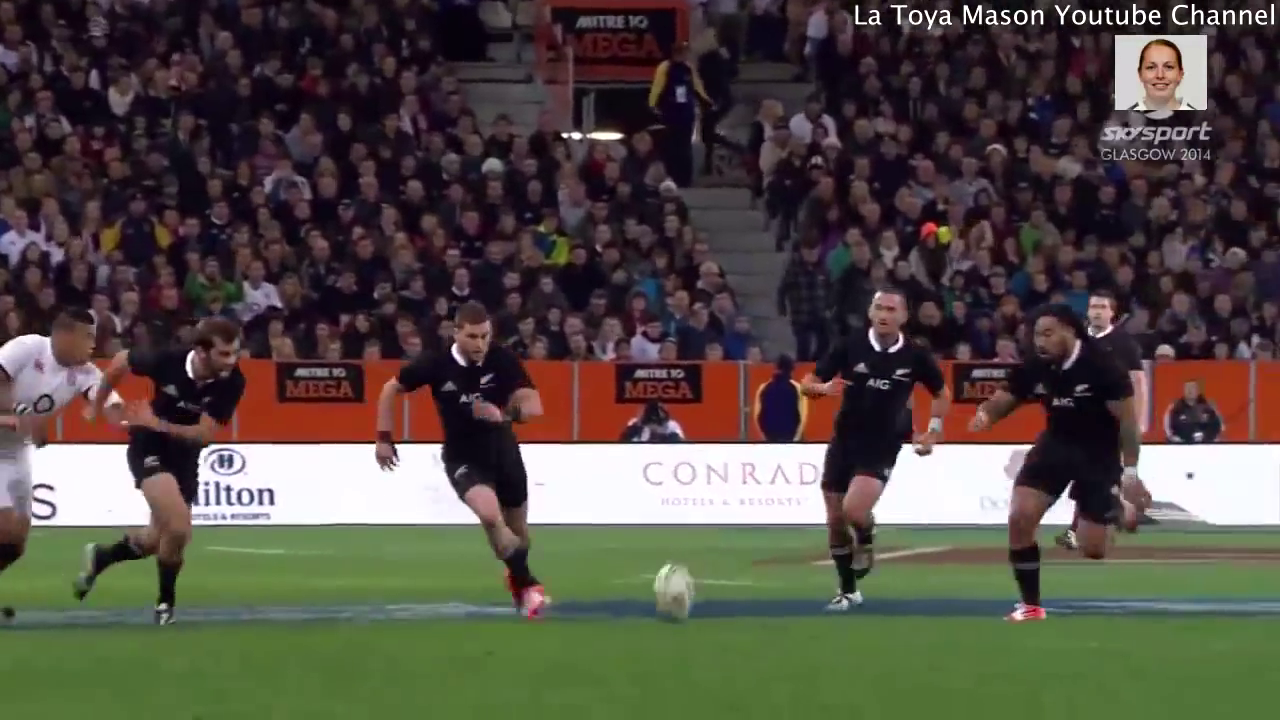ball: (645, 549, 704, 634)
player: (57, 308, 266, 644), (363, 294, 567, 630), (964, 292, 1153, 638), (787, 279, 961, 633), (1, 280, 137, 636)
